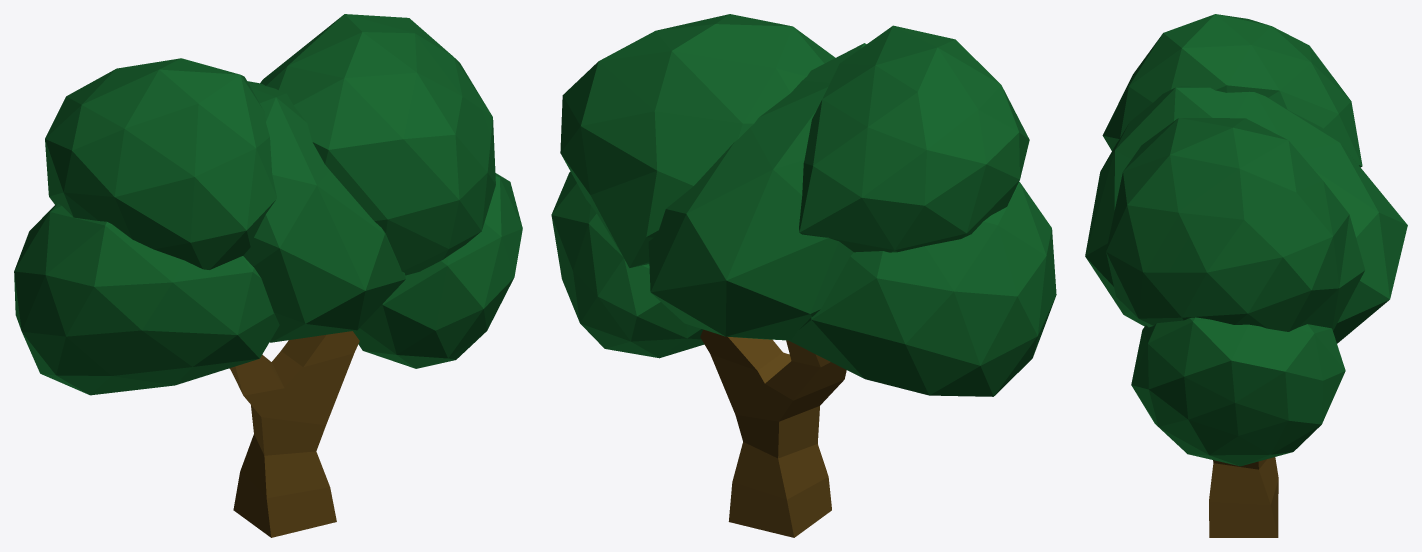
File: tree5.fbx
3 views of the same model, side by side, from view 1: azimuth 30°, elevation 25°; view 2: azimuth 150°, elevation 25°; view 3: azimuth 270°, elevation 25° (orthographic). The views are drawn at different scales.
Visible parts, largest first — view 1: OakTree1.001_LOD0; view 2: OakTree1.001_LOD0; view 3: OakTree1.001_LOD0.
Boxes of the visible parts, x1,y1,x2,y2 form: OakTree1.001_LOD0: (14, 14, 522, 537); OakTree1.001_LOD0: (551, 14, 1056, 537); OakTree1.001_LOD0: (1085, 14, 1407, 537).
Size of what is drawn, in the model's own units: 976 by 959 by 628.
